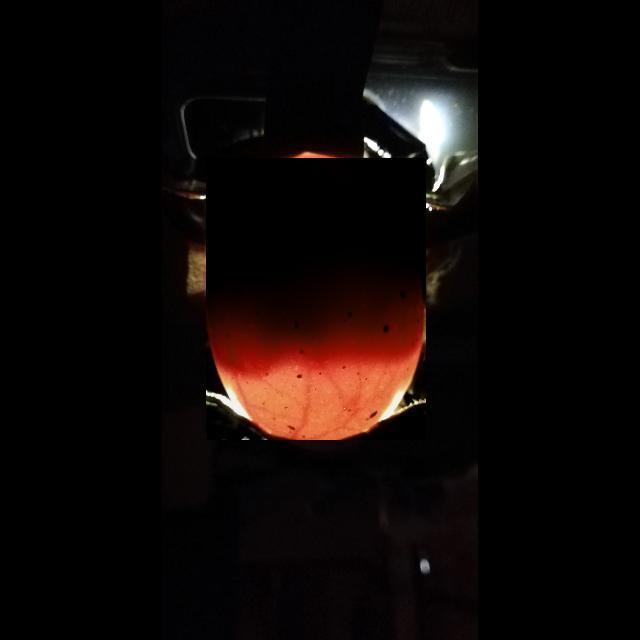Fertile: (206, 158, 426, 440)
